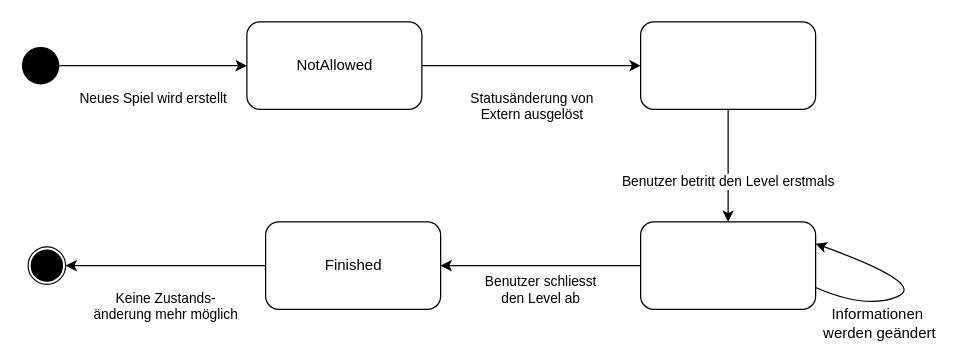
Image size: 956x363. Some labels were removed from this diagram. Here are the shapes that lost their labels. From the top down, the box of each, then its label:
(639, 21, 816, 109): NotStarted
(639, 221, 816, 309): Started
